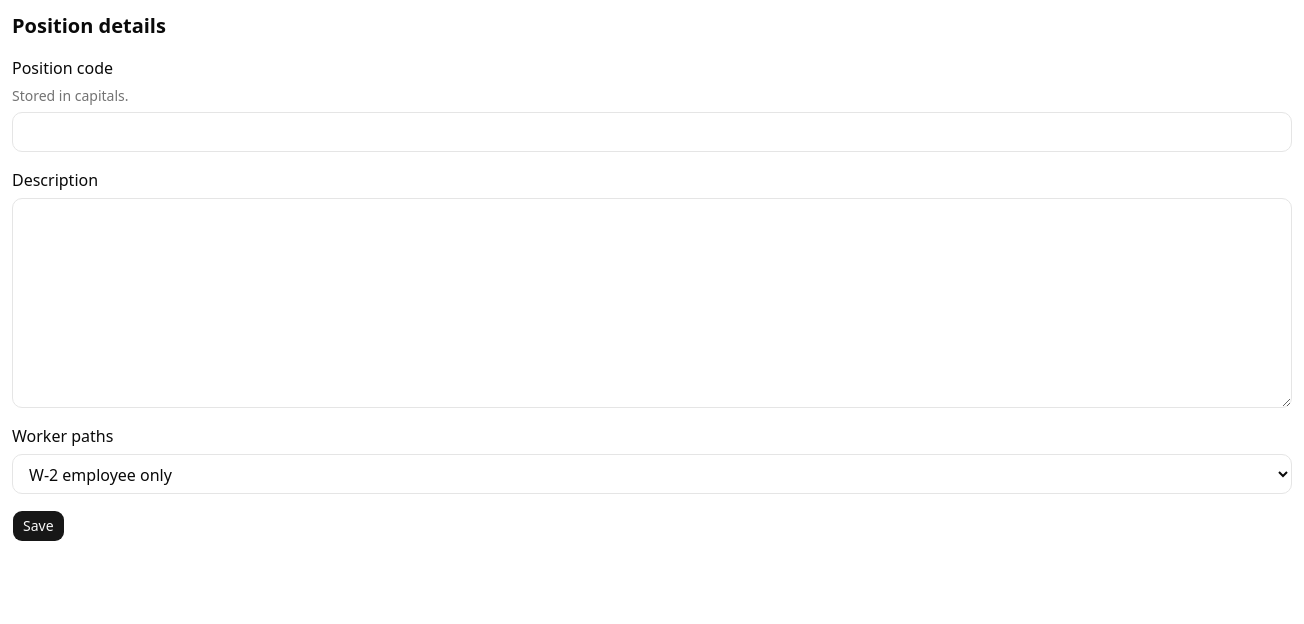
ConfigForm › labels every field, links hints, and submits only declared hidden fields
In the field labelled "Position code": (652, 132) [12,112,1292,152], type "lex"
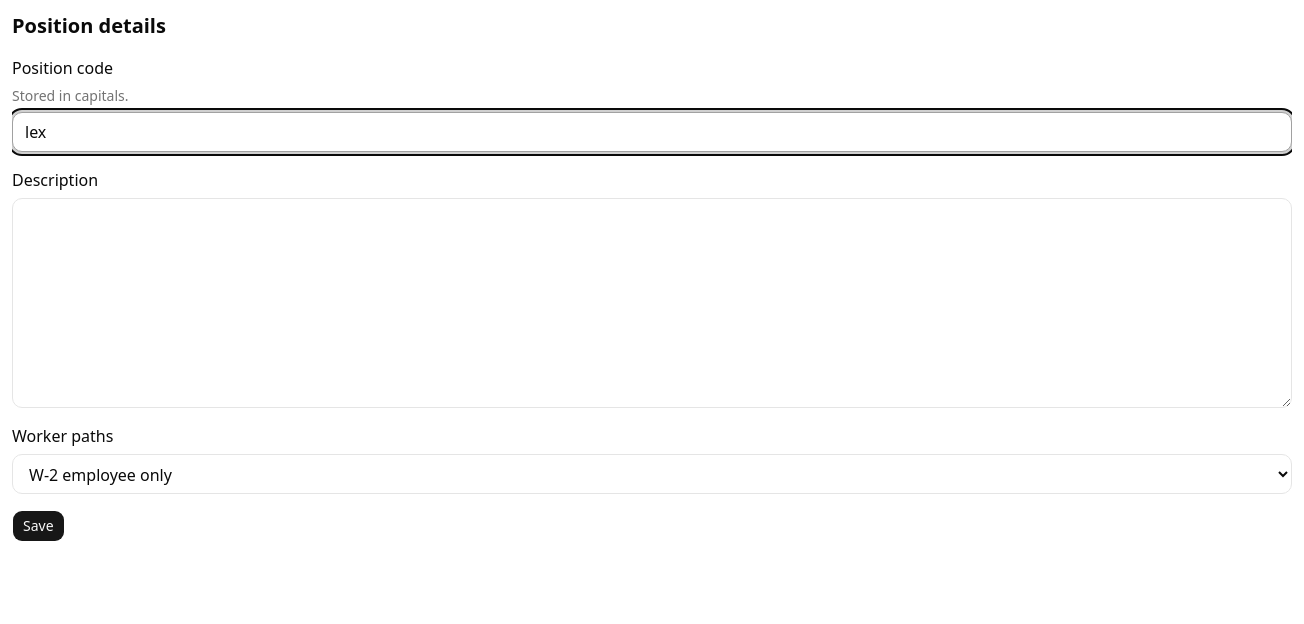
Click the button "Save": (38, 526) [12,510,65,542]
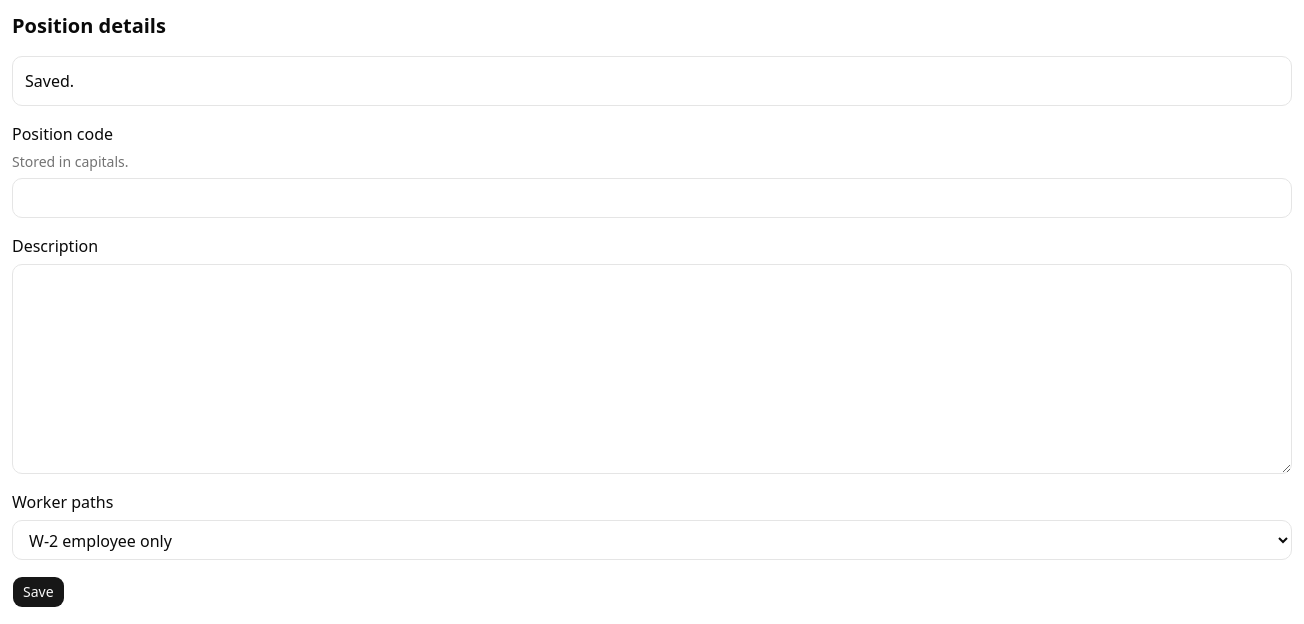
Expected: the message reads "Saved.", [25,70,74,92]
